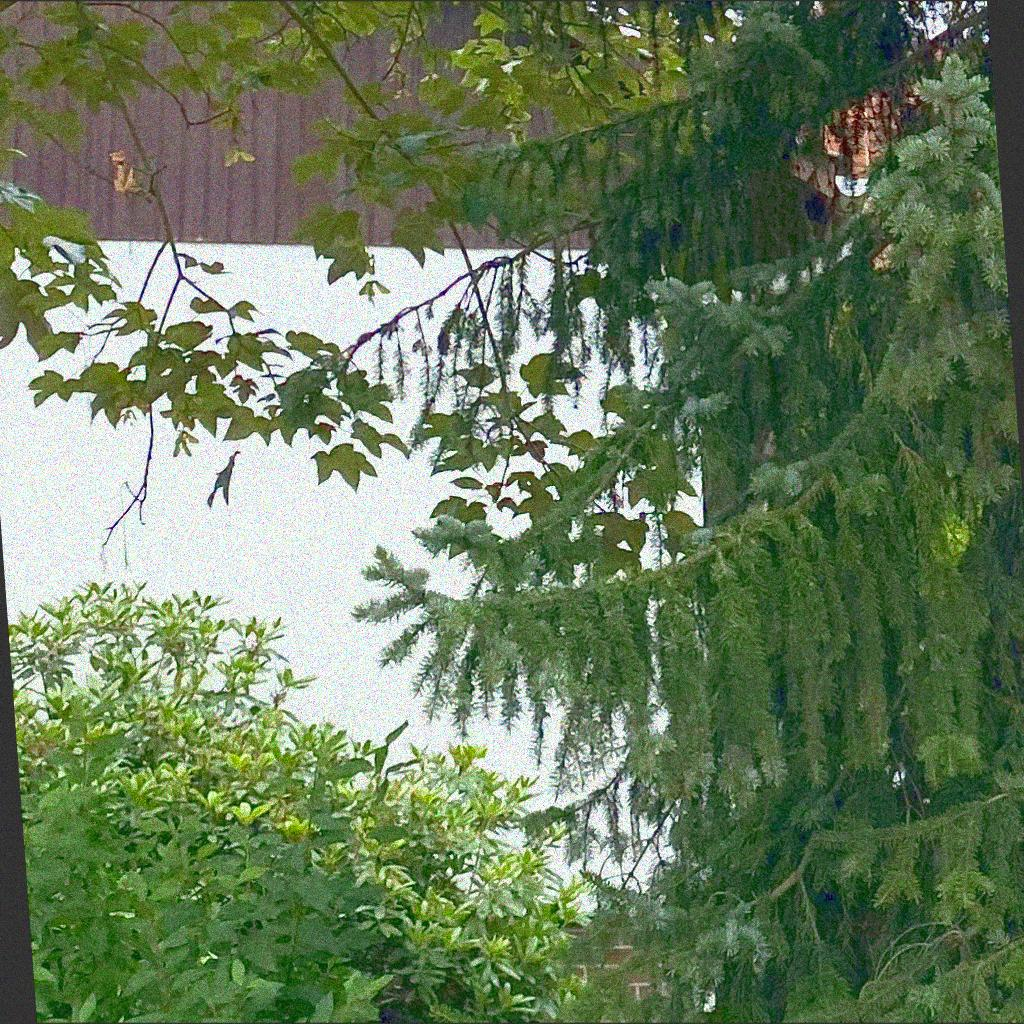tree: (350, 1, 1023, 1022), (1, 1, 702, 585)
